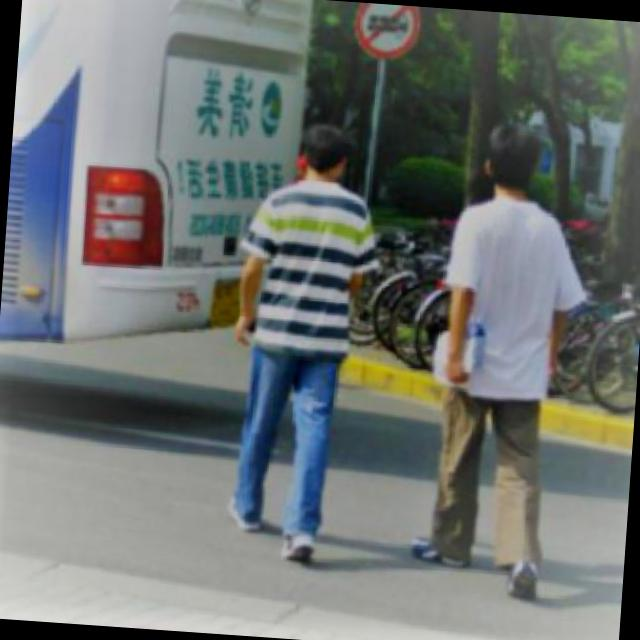Person: (408, 110, 596, 604), (217, 112, 374, 571)
